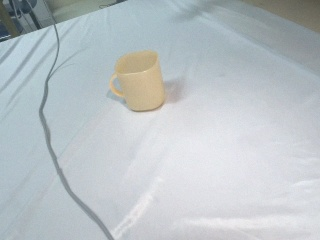cup: (108, 49, 166, 113)
